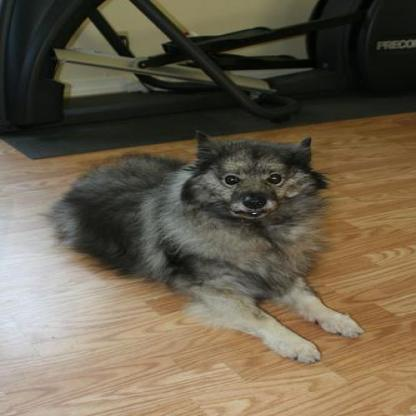keeshond: (32, 128, 362, 363)
